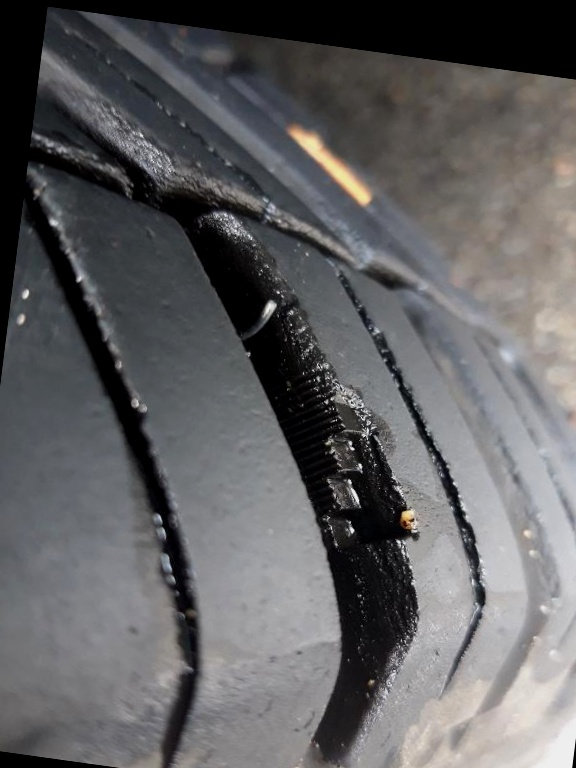temoin:80: (242, 359, 443, 573)
